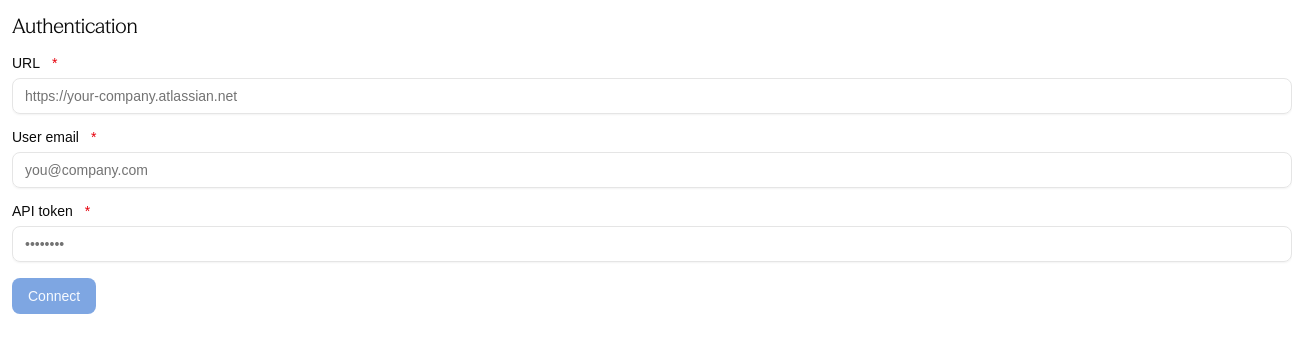
Scenario: ConfluenceForm › Form Validation › should show validation error for invalid email format
Type "invalid-email" into the field labelled "User email *".
click(652, 170); type("invalid-email")  # box [12,152,1292,188]
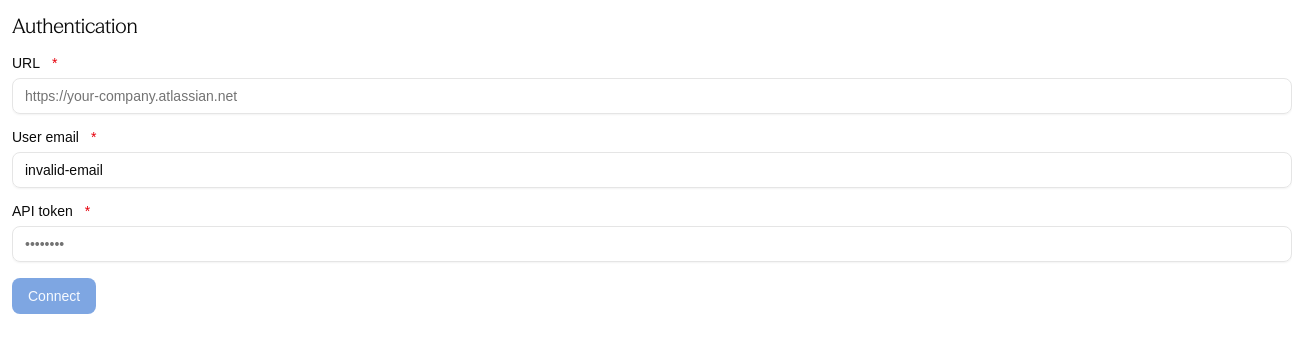
Leave the field labelled "User email *", box [12,152,1292,188]
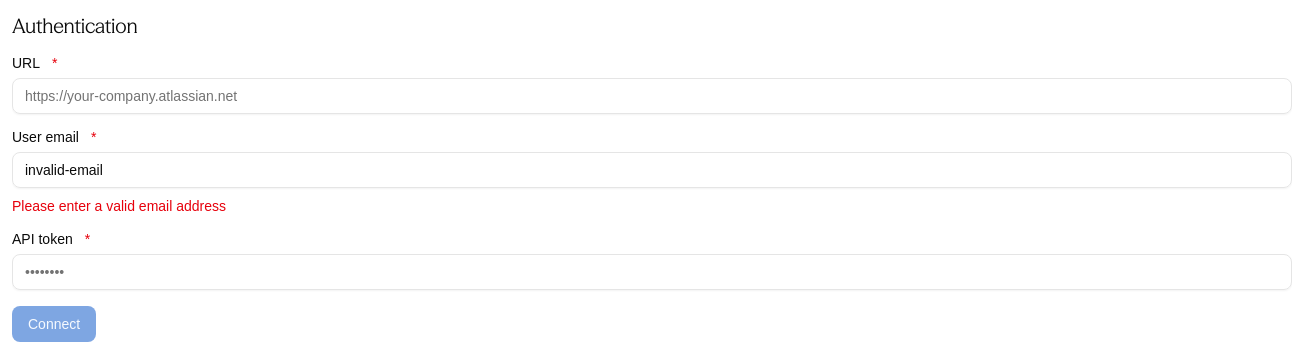
Now the text "Please enter a valid email address" is shown, box [12,196,226,216]
